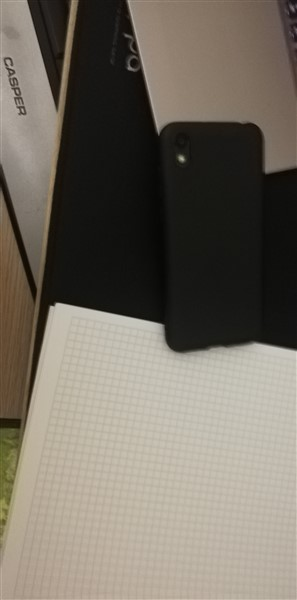telefon: (158, 116, 278, 362)
